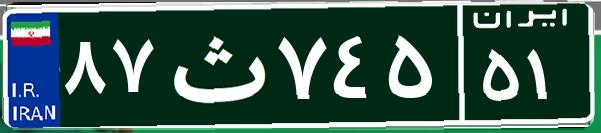1: (525, 38, 570, 115)
4: (330, 28, 385, 110)
5: (385, 28, 445, 110), (475, 38, 525, 113)
7: (273, 28, 330, 110), (110, 28, 158, 105)
8: (57, 26, 110, 107)
ث: (158, 15, 273, 115)
